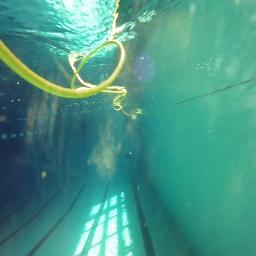Full: (124, 150, 134, 160)
